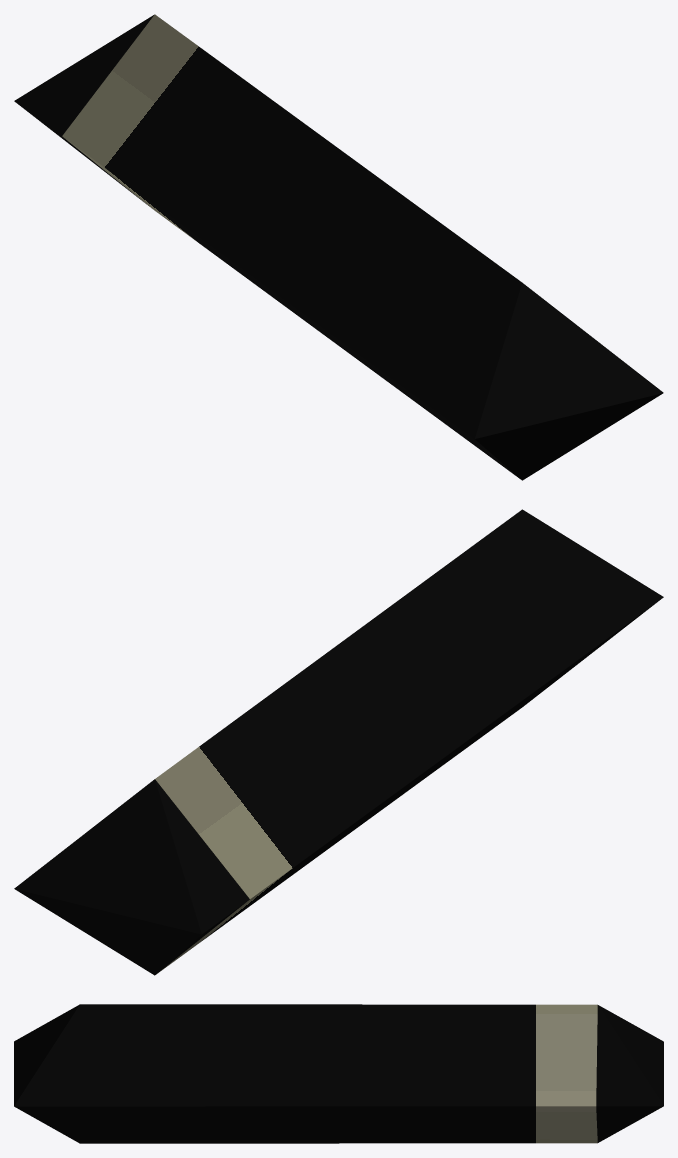
The model's file is birch_thin_trunk_horizontal.obj.
The picture shows the model from 3 angles, top to bottom: view 1: azimuth 30°, elevation 25°; view 2: azimuth 150°, elevation 25°; view 3: azimuth 270°, elevation 25°; orthographic projection. The views are drawn at different scales.
Visible parts, largest first — view 1: cube_selection_selection; view 2: cube_selection_selection; view 3: cube_selection_selection.
Part boxes in pixels (x1,y1,x2,y2): cube_selection_selection: [14, 14, 663, 480]; cube_selection_selection: [14, 509, 663, 975]; cube_selection_selection: [14, 1004, 663, 1143].
Bounding box in the file's own units: 0.3107 × 0.3104 × 1.31.
